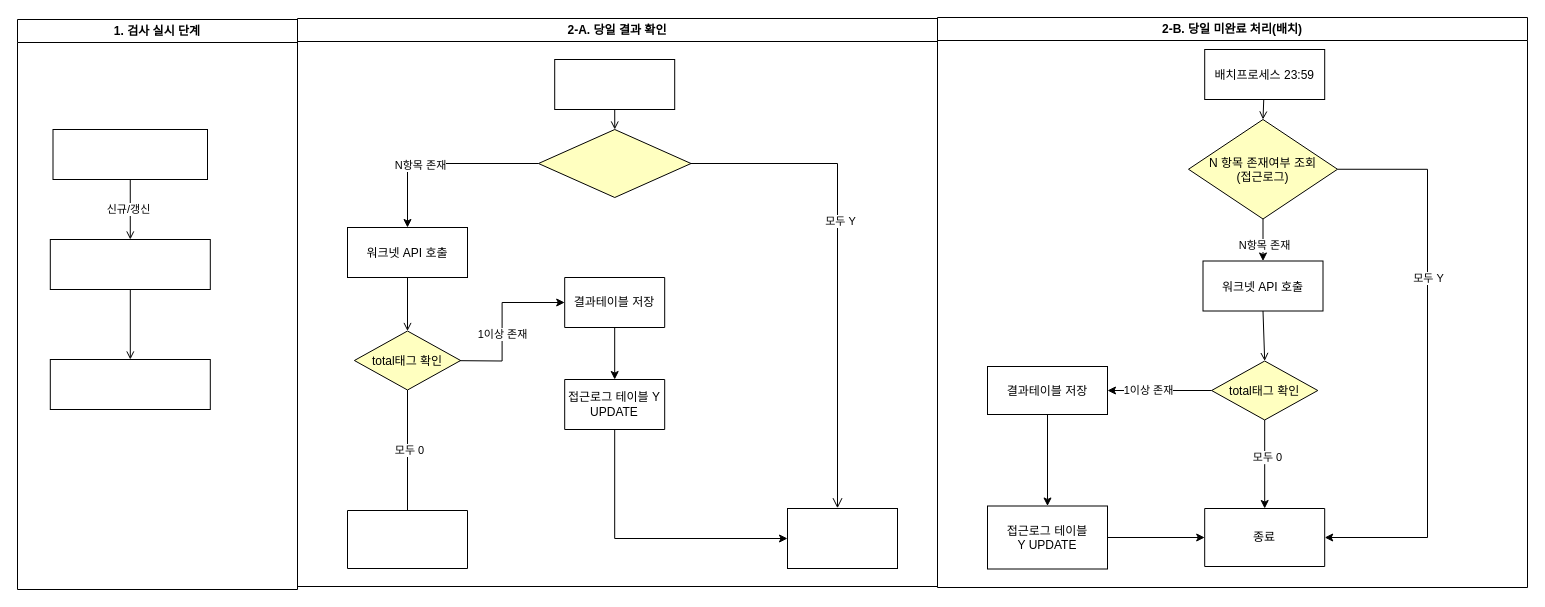
This 1545x607 diagram has some shape labels left out. Each missing label, with the centre of its shape:
[결과보기] 버튼 클릭: (614,84)
[심리검사 실시] 클릭: (130,154)
검사 미완료 알림: (407,539)
결과 화면 표출: (842,538)
워크넷 검사 URL 이동: (129,384)
접근로그 테이블 처리: (129,264)
접근로그 테이블 확인: (614,163)
